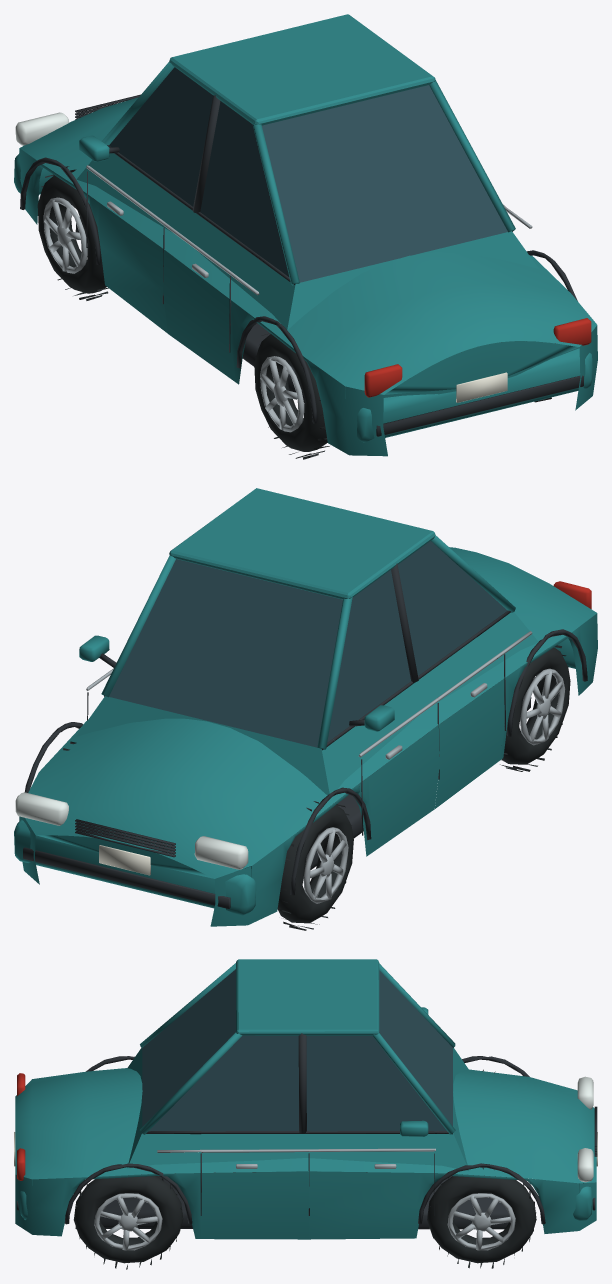
3 renders of one model, top to bottom at view 1: azimuth 30°, elevation 25°; view 2: azimuth 150°, elevation 25°; view 3: azimuth 270°, elevation 25°, orthographic. The views are drawn at different scales.
Visible parts, largest first — view 1: compact_car_body, compact_car_front_left_door, compact_car_rear_left_door, compact_car_rear_left_wheel, compact_car_front_left_wheel; view 2: compact_car_body, compact_car_front_left_door, compact_car_rear_left_door, compact_car_front_left_wheel, compact_car_rear_left_wheel, compact_car_front_right_door; view 3: compact_car_body, compact_car_front_right_door, compact_car_rear_right_door, compact_car_rear_right_wheel, compact_car_front_right_wheel.
Part boxes in pixels (box(x1,y1,x2,y2)): compact_car_body: box(14, 14, 597, 456); compact_car_front_left_door: box(79, 67, 213, 333); compact_car_rear_left_door: box(162, 101, 270, 381); compact_car_rear_left_wheel: box(254, 333, 329, 459); compact_car_front_left_wheel: box(37, 166, 108, 300); compact_car_body: box(14, 488, 597, 926); compact_car_front_left_door: box(330, 571, 439, 856); compact_car_rear_left_door: box(389, 541, 505, 808); compact_car_front_left_wheel: box(277, 801, 353, 930); compact_car_rear_left_wheel: box(500, 645, 570, 771); compact_car_front_right_door: box(79, 635, 116, 720); compact_car_body: box(14, 959, 597, 1238); compact_car_front_right_door: box(309, 1036, 434, 1239); compact_car_rear_right_door: box(200, 1035, 309, 1239); compact_car_rear_right_wheel: box(73, 1174, 183, 1269); compact_car_front_right_wheel: box(427, 1168, 536, 1268).
Bounding box in the file's own units: 1.7 × 1.5 × 3.5.
